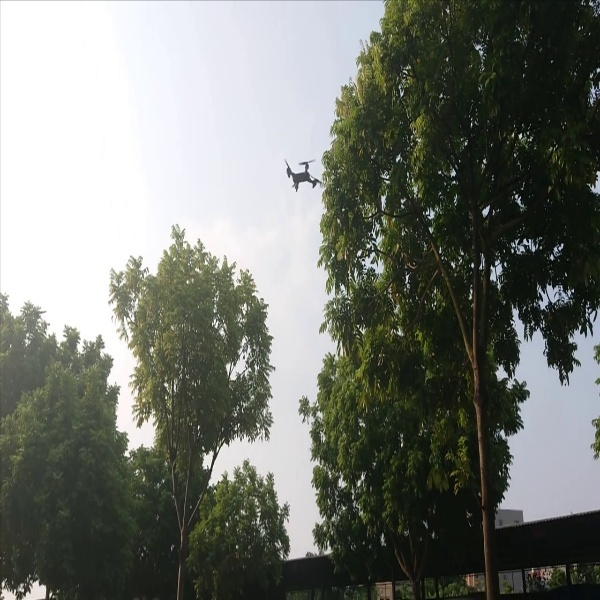drone: (279, 150, 327, 201)
